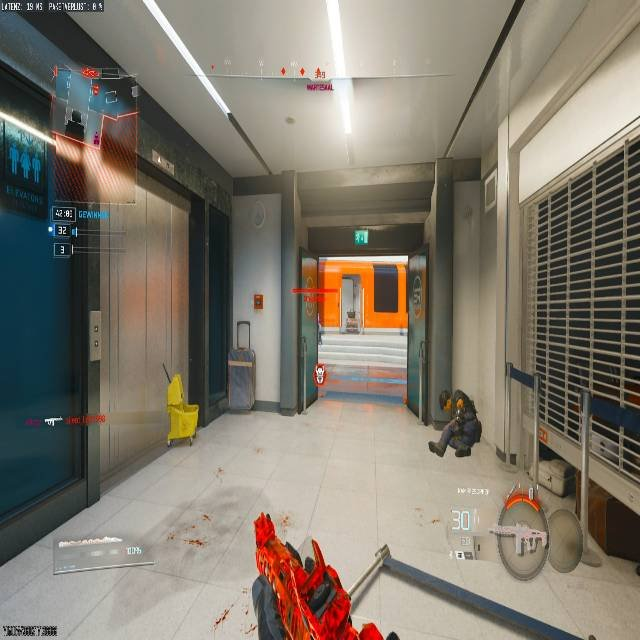player: (427, 387, 481, 458)
